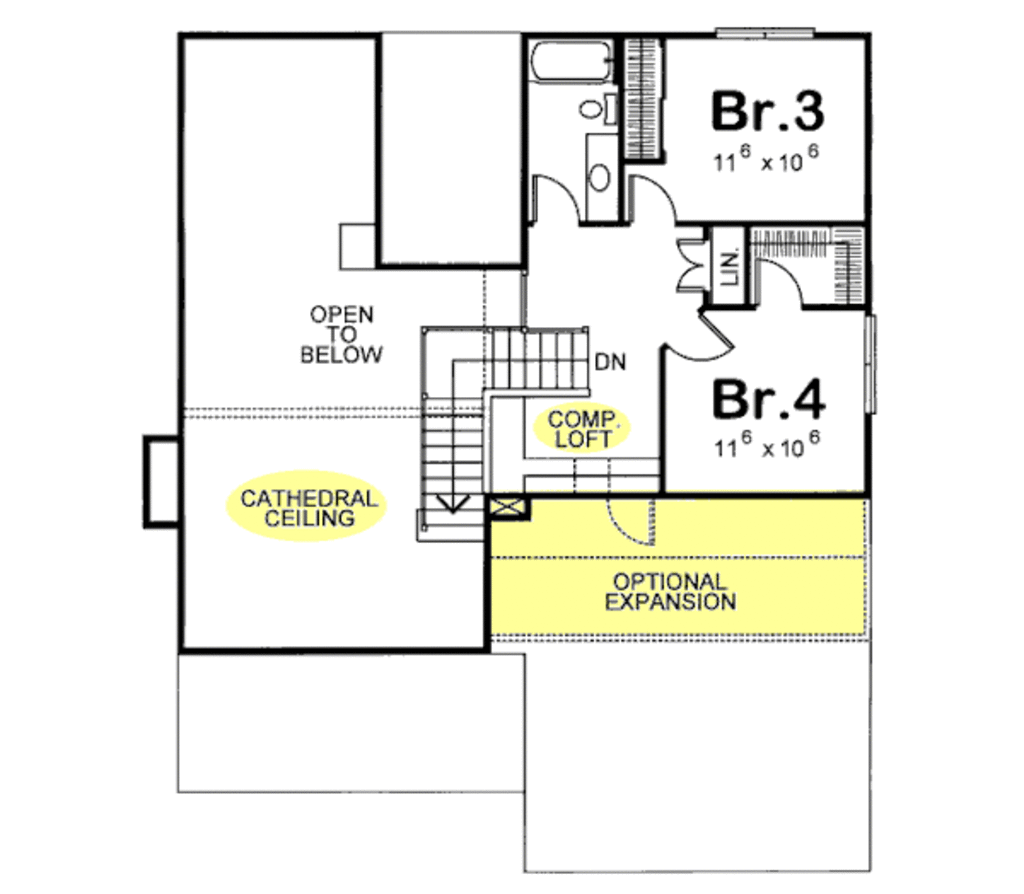door: (660, 309, 753, 372), (746, 250, 811, 315), (520, 173, 581, 232), (604, 494, 663, 552), (668, 229, 713, 297), (631, 169, 678, 230)
large_sink: (571, 91, 625, 129)
small_sink: (578, 125, 624, 226)
stairs: (396, 305, 596, 534)
tub: (531, 34, 622, 87)
window: (854, 312, 885, 418), (713, 23, 818, 45)
